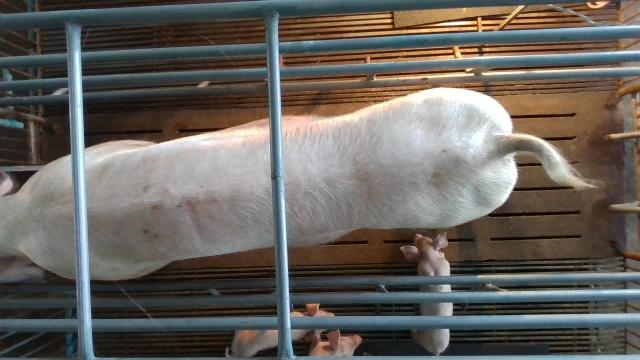piglet: (401, 231, 451, 356), (226, 303, 336, 359), (310, 331, 362, 355)
sow-stand-feed: (0, 85, 604, 282)
